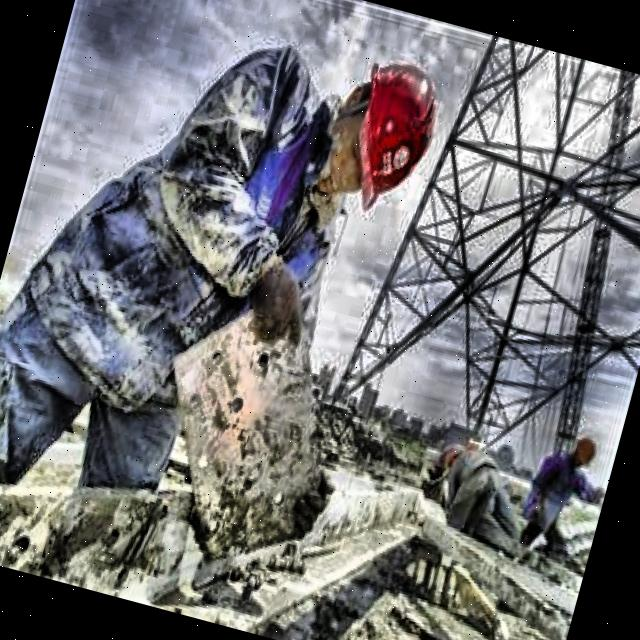helmet: (315, 38, 458, 240), (562, 421, 610, 481)
